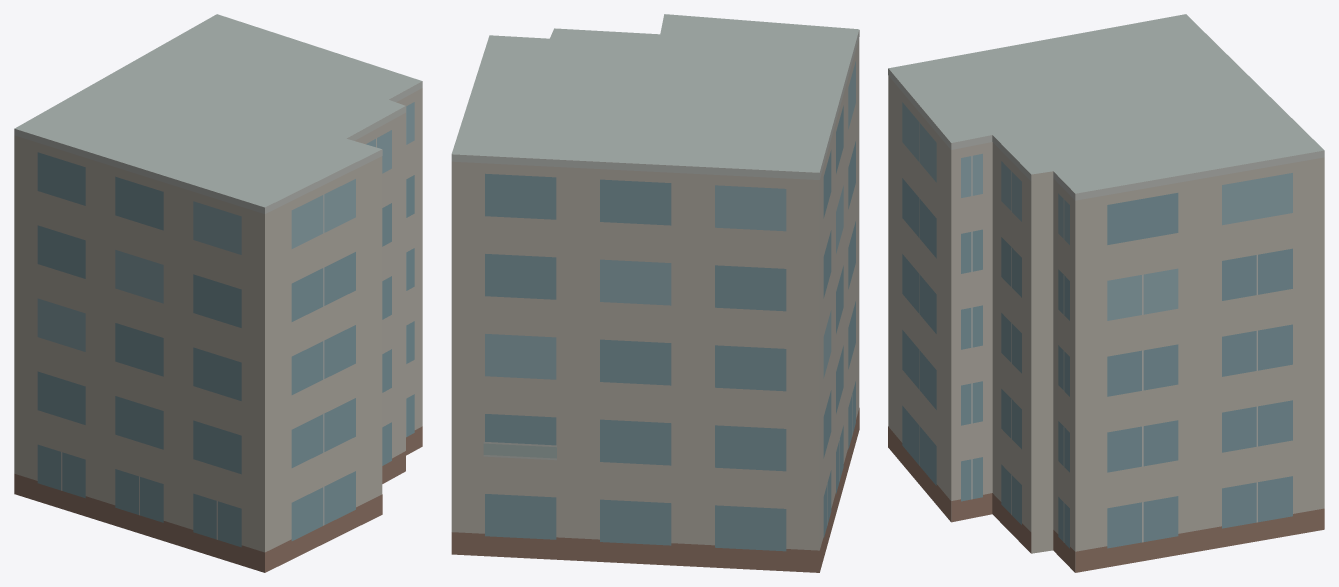
The model's file is survey-upis-32891593.glb.
3 views of the same model, side by side, from view 1: azimuth 30°, elevation 25°; view 2: azimuth 150°, elevation 25°; view 3: azimuth 270°, elevation 25° (orthographic). The views are drawn at different scales.
Visible parts, largest first — view 1: survey-upis-32891593.tmp; view 2: survey-upis-32891593.tmp; view 3: survey-upis-32891593.tmp.
Boxes of the visible parts, x1,y1,x2,y2 form: survey-upis-32891593.tmp: [14, 14, 422, 572]; survey-upis-32891593.tmp: [451, 14, 859, 572]; survey-upis-32891593.tmp: [888, 14, 1324, 572].
Size of the model in its own units: 13.58 by 13.35 by 13.94.
